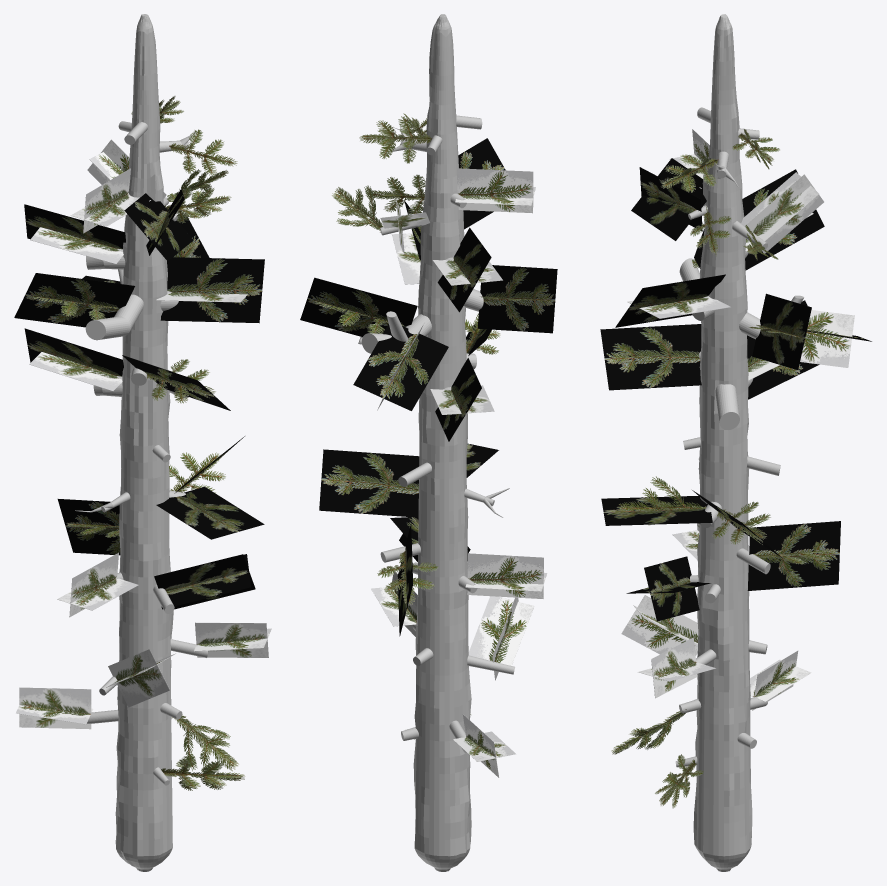
Rendered from pinetree_level2_plucked.fbx.
3 renders of one model, left to right at view 1: azimuth 30°, elevation 25°; view 2: azimuth 150°, elevation 25°; view 3: azimuth 270°, elevation 25°, orthographic.
Visible parts, largest first — view 1: Pinetree_level3_plucked; view 2: Pinetree_level3_plucked; view 3: Pinetree_level3_plucked.
Boxes of the visible parts, bbox=[...] form: Pinetree_level3_plucked: bbox=[14, 14, 271, 871]; Pinetree_level3_plucked: bbox=[300, 14, 557, 871]; Pinetree_level3_plucked: bbox=[600, 14, 871, 871].
Size of the model in its own units: 224 by 792 by 229.
